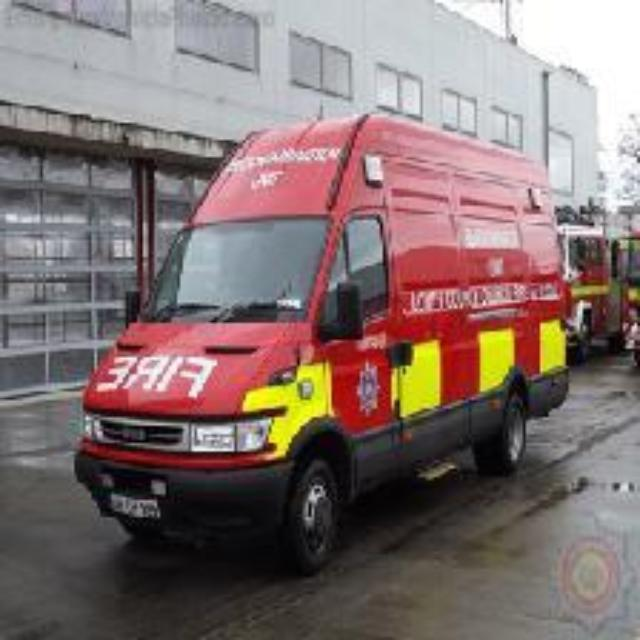emergency: (70, 127, 552, 558)
